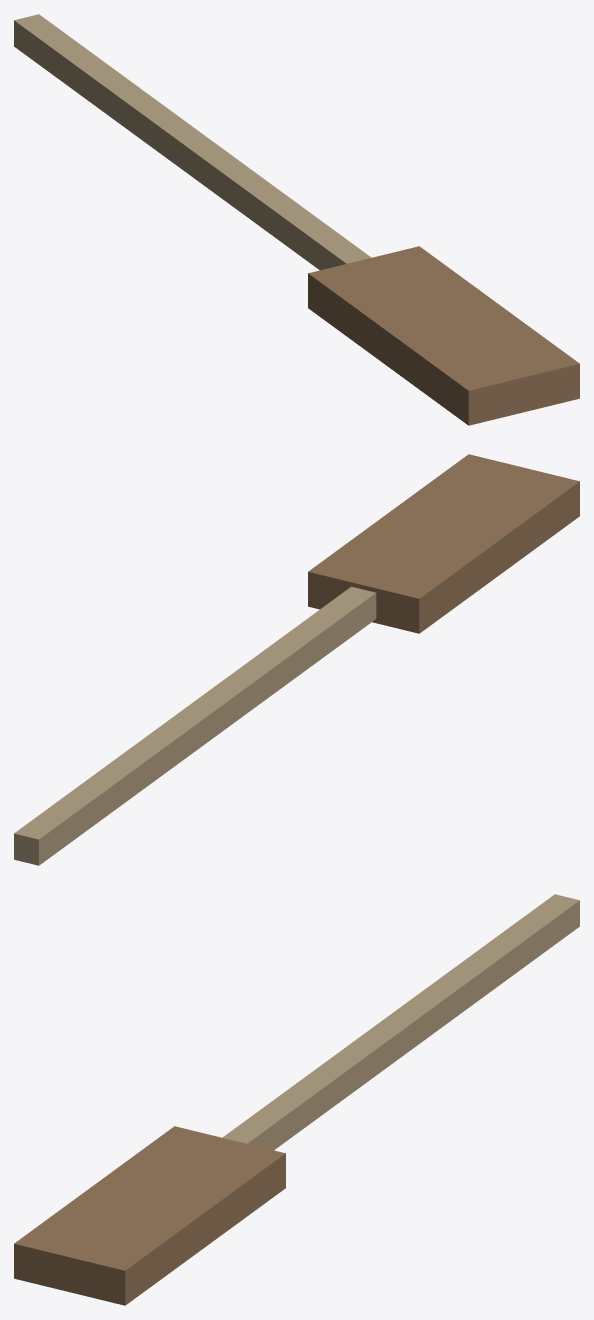
Rendered from qc_oar.obj.
The picture shows the model from 3 angles, top to bottom: view 1: azimuth 30°, elevation 25°; view 2: azimuth 150°, elevation 25°; view 3: azimuth 330°, elevation 25°; orthographic projection.
Parts seen in each view (by area): view 1: qc_oar; view 2: qc_oar; view 3: qc_oar.
Boxes of the visible parts, <box> form: qc_oar: <box>14,14,579,425</box>; qc_oar: <box>14,454,579,865</box>; qc_oar: <box>14,894,579,1305</box>.
Size of the model in its own units: 0.2 by 0.06 by 1.55.
